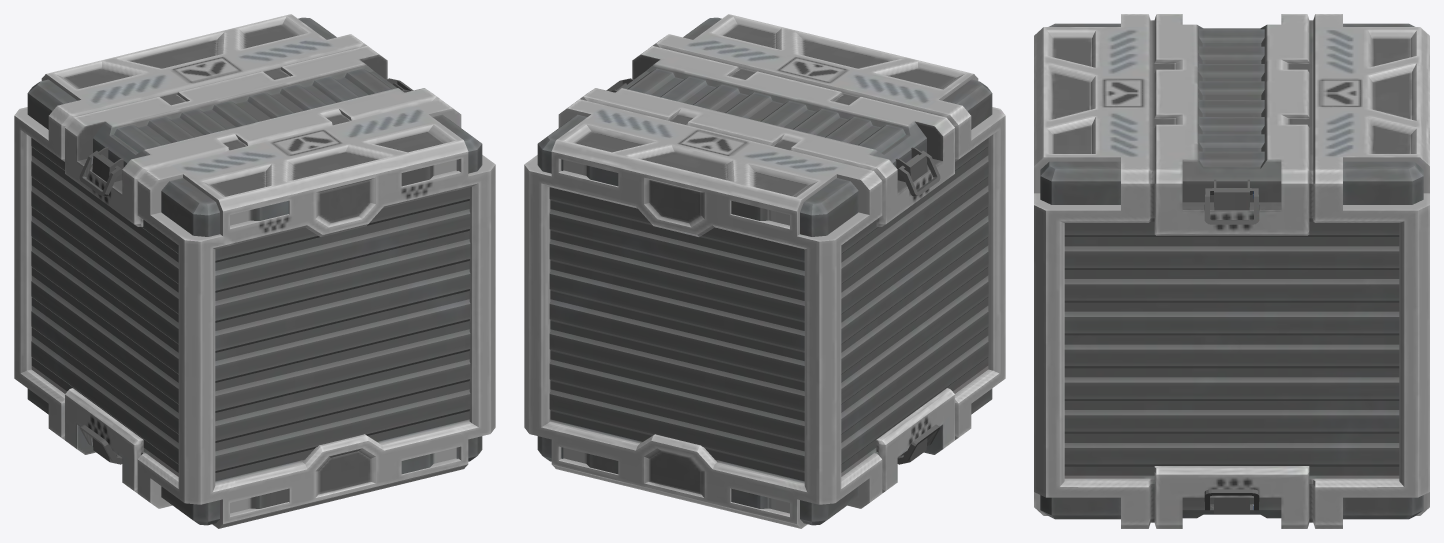
File: scifi-crate.glb
3 renders of one model, left to right at view 1: azimuth 30°, elevation 25°; view 2: azimuth 150°, elevation 25°; view 3: azimuth 270°, elevation 25°, orthographic. The views are drawn at different scales.
Visible parts, largest first — view 1: Prop_Crate; view 2: Prop_Crate; view 3: Prop_Crate.
Part boxes in pixels (<box>): Prop_Crate: <box>14,14,495,528</box>; Prop_Crate: <box>524,14,1005,528</box>; Prop_Crate: <box>1034,14,1429,528</box>.
Size of the model in its own units: 1.57 by 1.5 by 1.5.
1 material, 1 textured.
